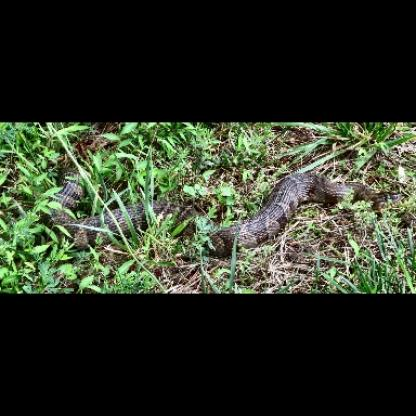Snake: (14, 164, 412, 258)
